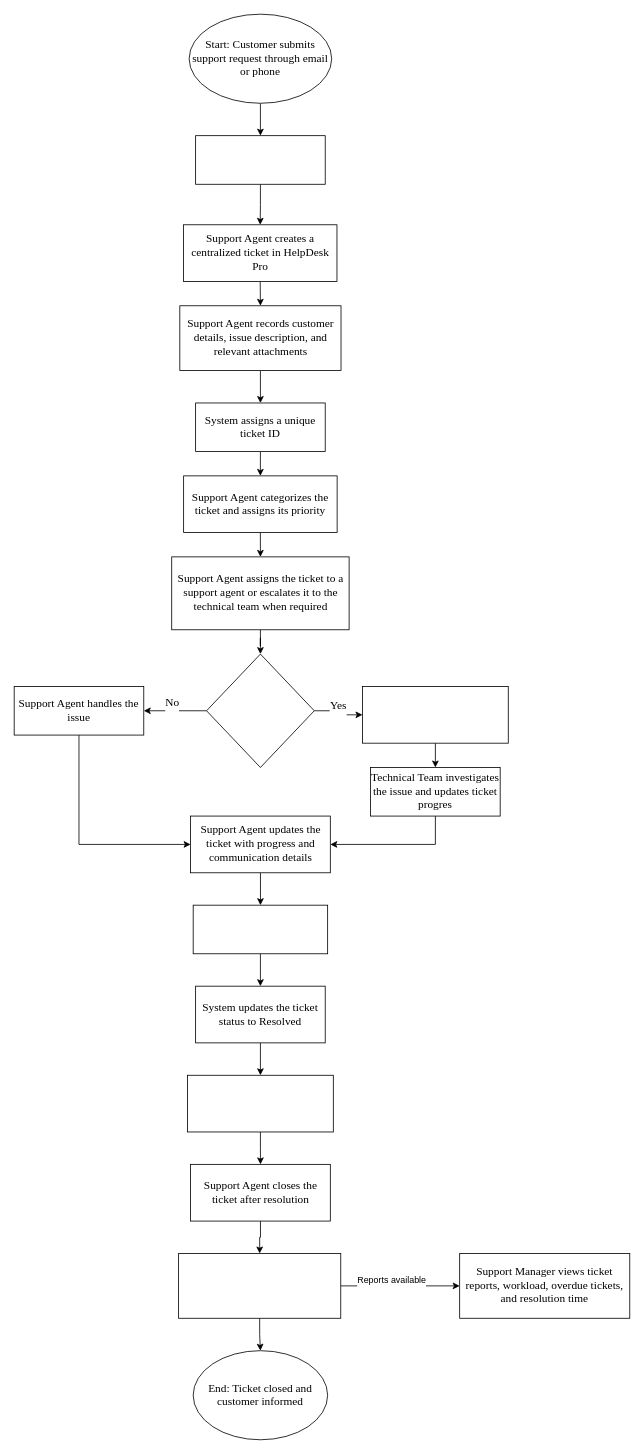
Some shapes in this 644 by 1454 pixel diagram are drawn without their labels. The shapes that lost their labels are listed below. From the top down, each one's centre as x and y in pixels, then its label:
(260,159): Support Agent receives customer request
(260,710): Is technical assistance required?
(435,714): Support Agent assigns the ticket to the Technical Team
(260,929): Support Agent records the ticket resolution details
(260,1103): System sends a relevant ticket update to the customer
(259,1285): System updates ticket records for management reporting
